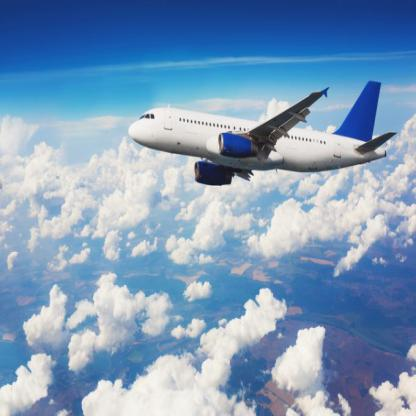CIV_Plane: (125, 79, 398, 192)
